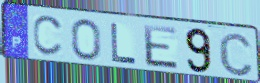9: (183, 26, 214, 75)
C: (217, 30, 255, 78), (31, 15, 66, 59)
E: (141, 23, 181, 72)
L: (109, 21, 139, 66)
O: (70, 18, 104, 63)
